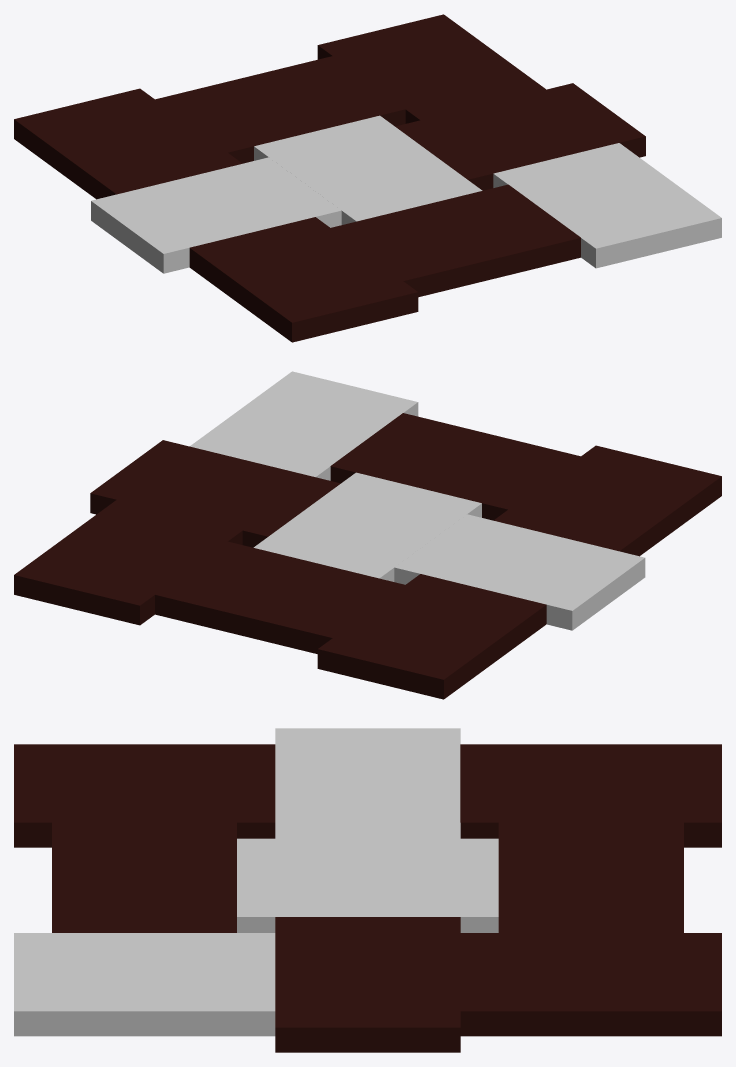
The model's file is LBSR_Pictureframe_collage.fbx.
The picture shows the model from 3 angles, top to bottom: view 1: azimuth 30°, elevation 25°; view 2: azimuth 150°, elevation 25°; view 3: azimuth 270°, elevation 25°; orthographic projection. The views are drawn at different scales.
Visible parts, largest first — view 1: frame8, frame4, frame9, frame2, frame6, frame3, frame5, frame1, frame7; view 2: frame6, frame5, frame7, frame2, frame8, frame3, frame4, frame1, frame9; view 3: frame9, frame7, frame3, frame6, frame8, frame1, frame2, frame5, frame4.
Boxes of the visible parts, <box> form: frame8: <box>189,217,418,342</box>; frame4: <box>331,184,580,297</box>; frame9: <box>493,143,721,268</box>; frame2: <box>91,157,341,273</box>; frame6: <box>14,88,242,199</box>; frame3: <box>395,83,645,190</box>; frame5: <box>155,56,405,163</box>; frame1: <box>254,115,482,224</box>; frame7: <box>317,14,545,123</box>; frame6: <box>317,574,546,699</box>; frame5: <box>155,541,404,653</box>; frame7: <box>14,500,242,625</box>; frame2: <box>394,514,645,630</box>; frame8: <box>493,445,721,556</box>; frame3: <box>90,440,340,547</box>; frame4: <box>330,413,580,520</box>; frame1: <box>253,472,481,581</box>; frame9: <box>190,371,418,480</box>; frame9: <box>14,933,275,1036</box>; frame7: <box>460,933,721,1036</box>; frame3: <box>275,917,460,1052</box>; frame6: <box>460,744,721,847</box>; frame8: <box>14,744,275,847</box>; frame1: <box>237,838,498,932</box>; frame2: <box>275,728,460,838</box>; frame5: <box>498,822,683,932</box>; frame4: <box>52,822,236,932</box>.
Size of the model in its own units: 1.09 by 0.0426 by 1.09.
